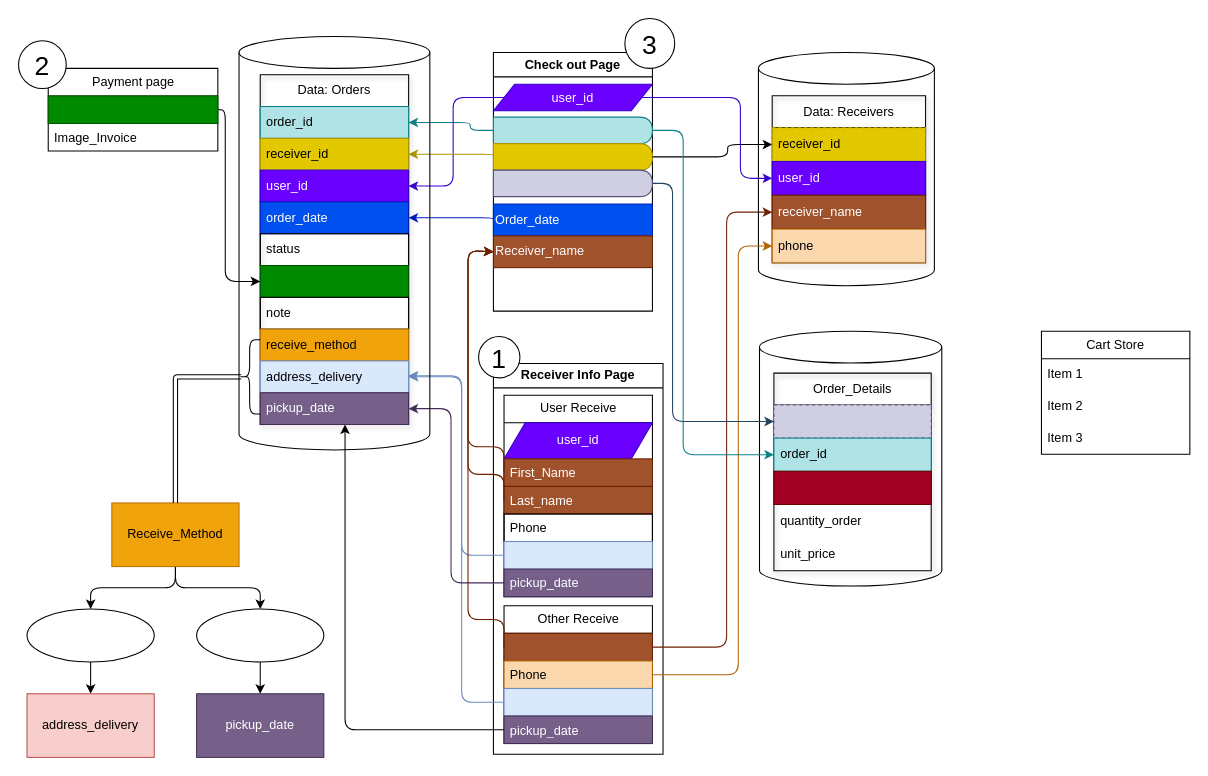
Image size: 1208x776. Some labels were removed from this diagram. Here are the shapes that lost their labels. From the top down, the centre of each, then its label:
the point at 132,109: Payment_Bank
the point at 572,130: Generate order_id
the point at 572,156: Generate receiver_id
the point at 572,183: Generate invoice
the point at 334,280: payment_method
the point at 852,421: invoice
the point at 852,487: product_id
the point at 577,554: Location | Address
the point at 90,635: delivery
the point at 260,635: pickup
the point at 577,646: Receiver Name
the point at 577,701: Address
